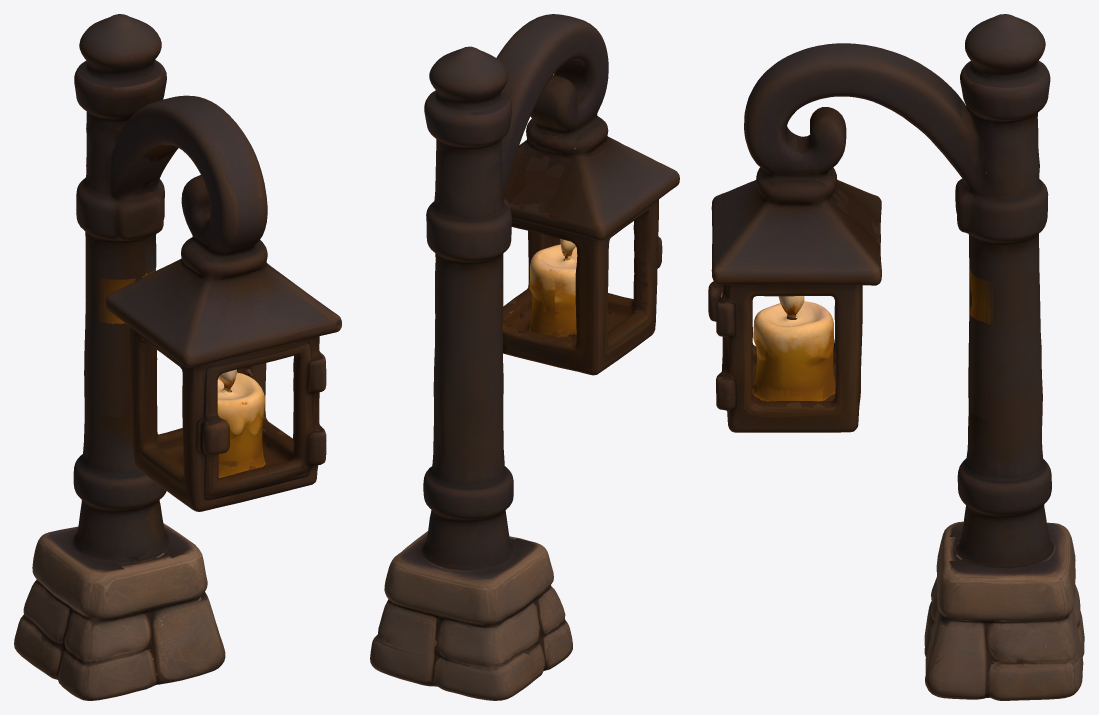
The model's file is ck_lamppost.glb.
3 views of the same model, side by side, from view 1: azimuth 30°, elevation 25°; view 2: azimuth 150°, elevation 25°; view 3: azimuth 270°, elevation 25° (orthographic). The views are drawn at different scales.
Visible parts, largest first — view 1: ck_lamppost; view 2: ck_lamppost; view 3: ck_lamppost.
Part boxes in pixels (x1=…): ck_lamppost: x1=14, y1=14, x2=341, y2=700; ck_lamppost: x1=370, y1=14, x2=679, y2=700; ck_lamppost: x1=708, y1=14, x2=1084, y2=700.
Size of the model in its own units: 0.5085 by 1.97 by 1.03.
Materials: 1 (1 with a texture image).
